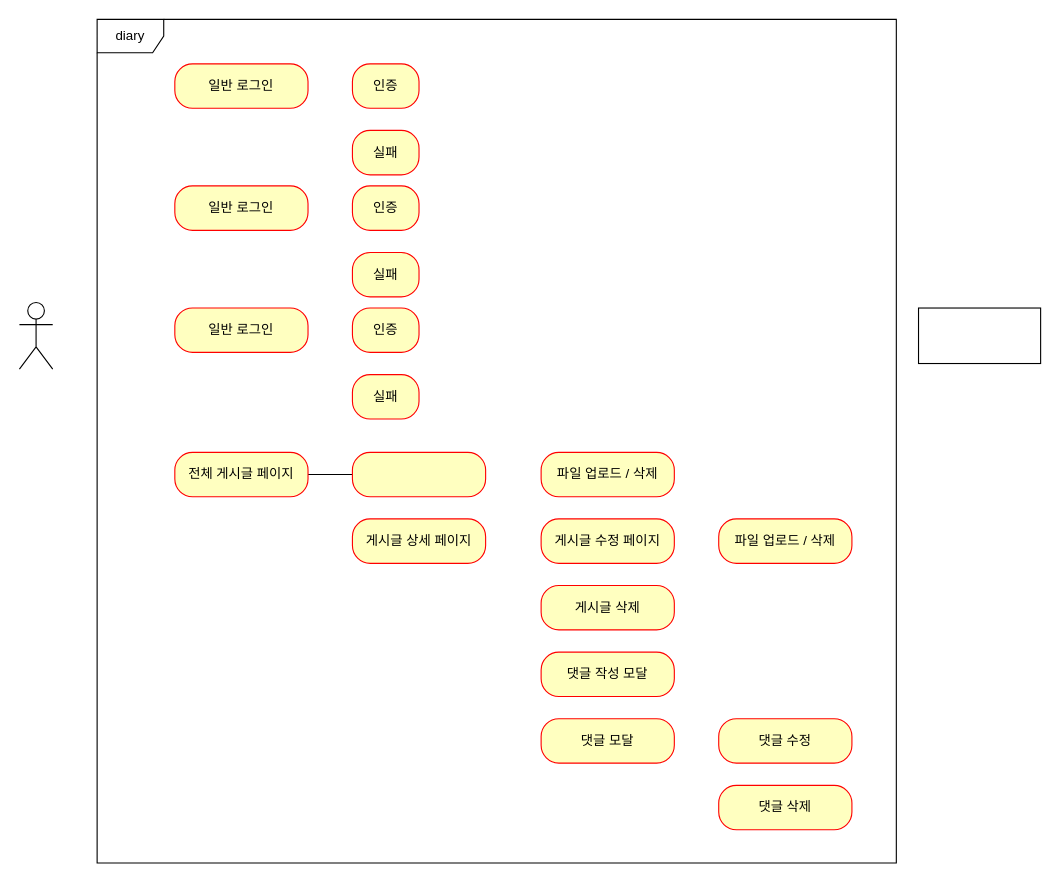
This 1060x882 diagram has some shape labels left out. Each missing label, with the box of its shape:
DB: (917, 307, 1041, 364)
User: (18, 301, 53, 369)
게시글 작성 페이지: (351, 451, 486, 497)
